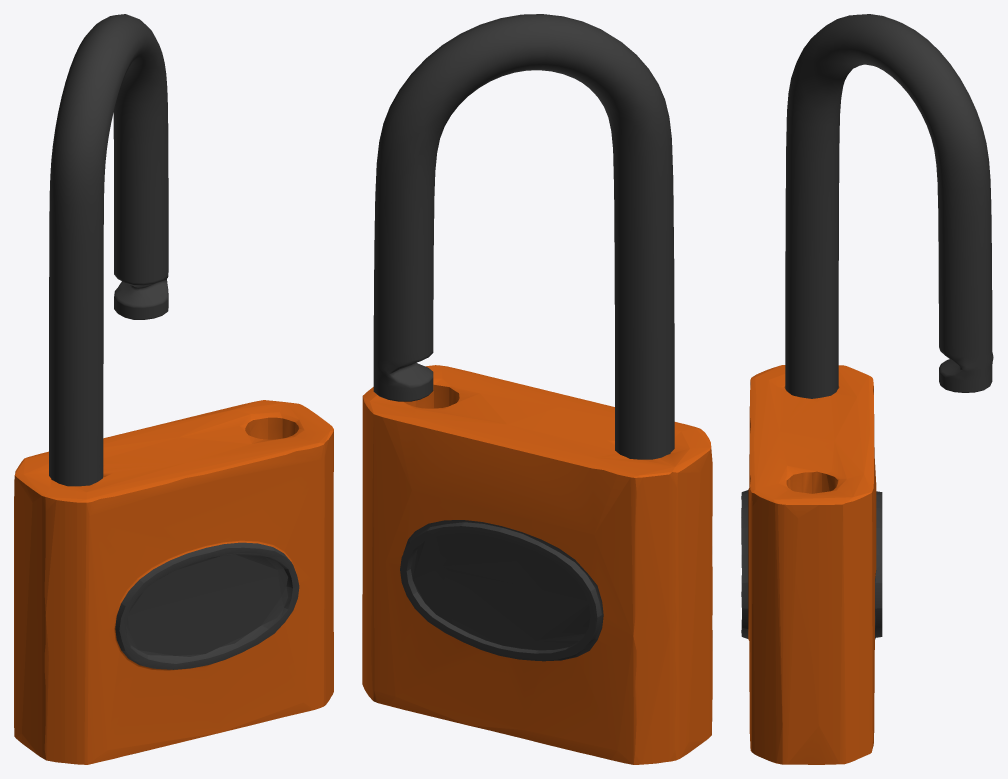
File: L_Lock remake.FBX
3 renders of one model, left to right at view 1: azimuth 30°, elevation 25°; view 2: azimuth 150°, elevation 25°; view 3: azimuth 270°, elevation 25°, orthographic. The views are drawn at different scales.
Visible parts, largest first — view 1: Box001, Box002; view 2: Box001, Box002; view 3: Box001, Box002.
Boxes of the visible parts, left/top/right/bottom form: Box001: left=14, top=400, right=333, bottom=764; Box002: left=49, top=14, right=168, bottom=486; Box001: left=362, top=365, right=712, bottom=764; Box002: left=373, top=14, right=674, bottom=459; Box001: left=741, top=365, right=882, bottom=764; Box002: left=785, top=14, right=993, bottom=398.
Size of the model in its own units: 4 by 8.79 by 3.03.
